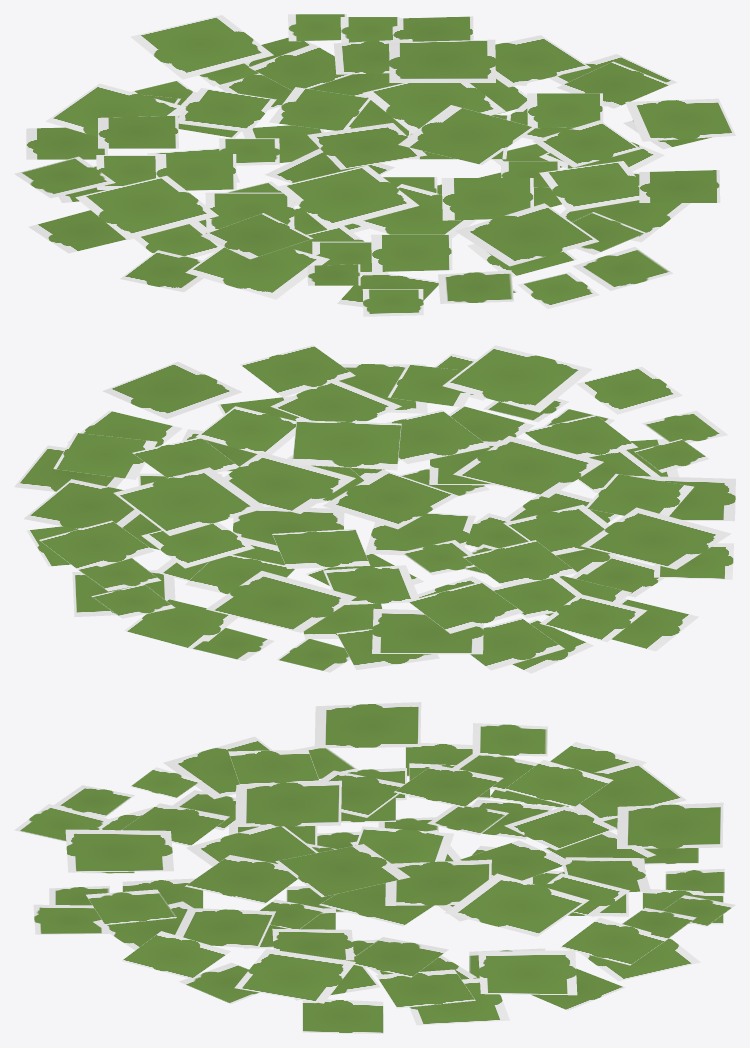
File: Plant_02.glb
3 renders of one model, top to bottom at view 1: azimuth 30°, elevation 25°; view 2: azimuth 150°, elevation 25°; view 3: azimuth 270°, elevation 25°, orthographic. The views are drawn at different scales.
Parts seen in each view (by area): view 1: Plant_02_LOD0; view 2: Plant_02_LOD0; view 3: Plant_02_LOD0.
Boxes of the visible parts, x1=… form: Plant_02_LOD0: x1=14, y1=14, x2=735, y2=316; Plant_02_LOD0: x1=14, y1=345, x2=735, y2=673; Plant_02_LOD0: x1=14, y1=702, x2=735, y2=1033.
Size of what is drawn, in the model's own units: 0.7057 by 0.0616 by 0.7167.
Materials: 1 (1 with a texture image).
